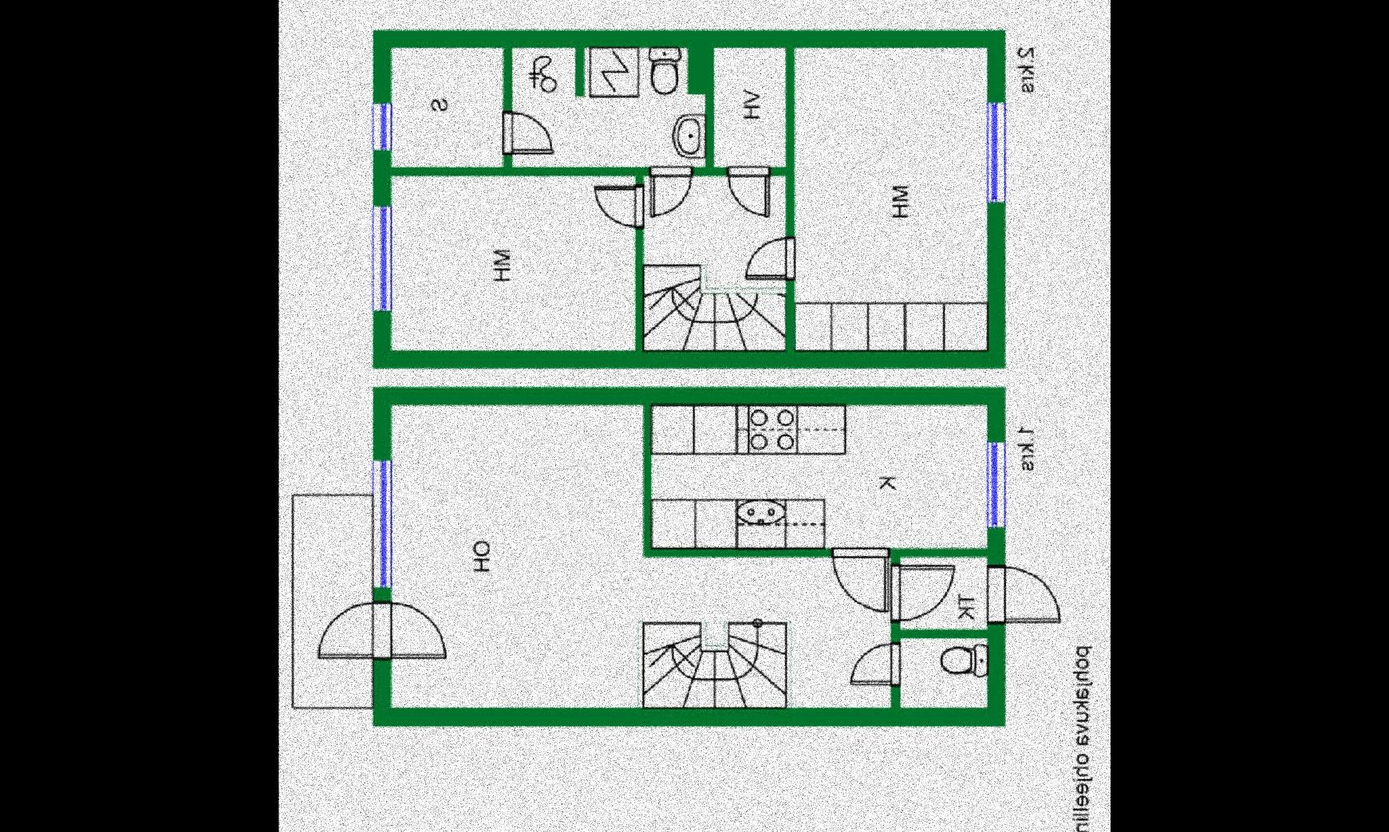door: (313, 597, 453, 667), (988, 561, 1060, 625), (891, 562, 955, 622), (831, 548, 885, 616), (591, 183, 652, 231), (499, 108, 560, 153), (745, 231, 799, 280), (728, 163, 772, 218), (848, 643, 900, 688), (648, 164, 689, 219)
window: (374, 458, 393, 582), (986, 102, 1006, 199), (372, 205, 390, 306), (988, 442, 1007, 526), (371, 102, 389, 147)
zone: (393, 404, 887, 708), (795, 51, 985, 350), (652, 405, 991, 550), (389, 174, 633, 352), (507, 44, 708, 168), (641, 175, 783, 349), (294, 493, 370, 706), (389, 47, 501, 167), (715, 48, 786, 170), (896, 562, 988, 629), (903, 638, 988, 708)
